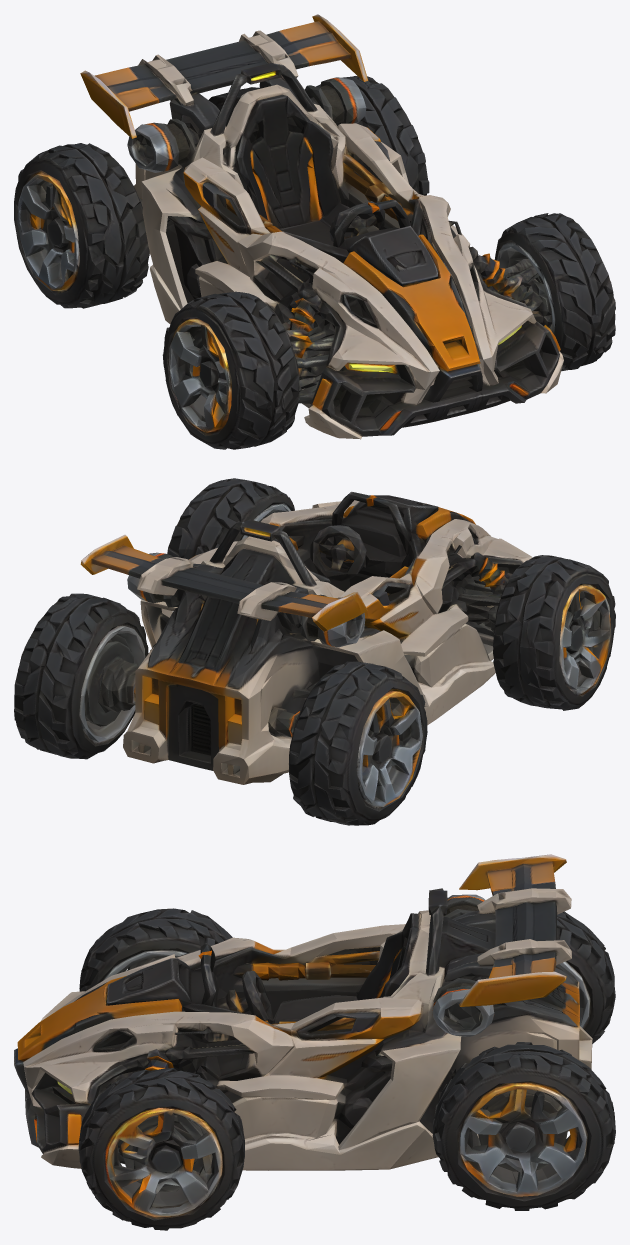
File: 07-amber-dune-pbr.glb
The picture shows the model from 3 angles, top to bottom: view 1: azimuth 30°, elevation 25°; view 2: azimuth 150°, elevation 25°; view 3: azimuth 270°, elevation 25°; orthographic projection. The views are drawn at different scales.
Visible parts, largest first — view 1: model; view 2: model; view 3: model.
Part boxes in pixels (bbox=[...]): model: bbox=[14, 14, 615, 449]; model: bbox=[14, 478, 615, 825]; model: bbox=[14, 854, 615, 1230].
Bounding box in the file's own units: 1.49 × 0.8412 × 1.9.
Materials: 1 (1 with a texture image).
